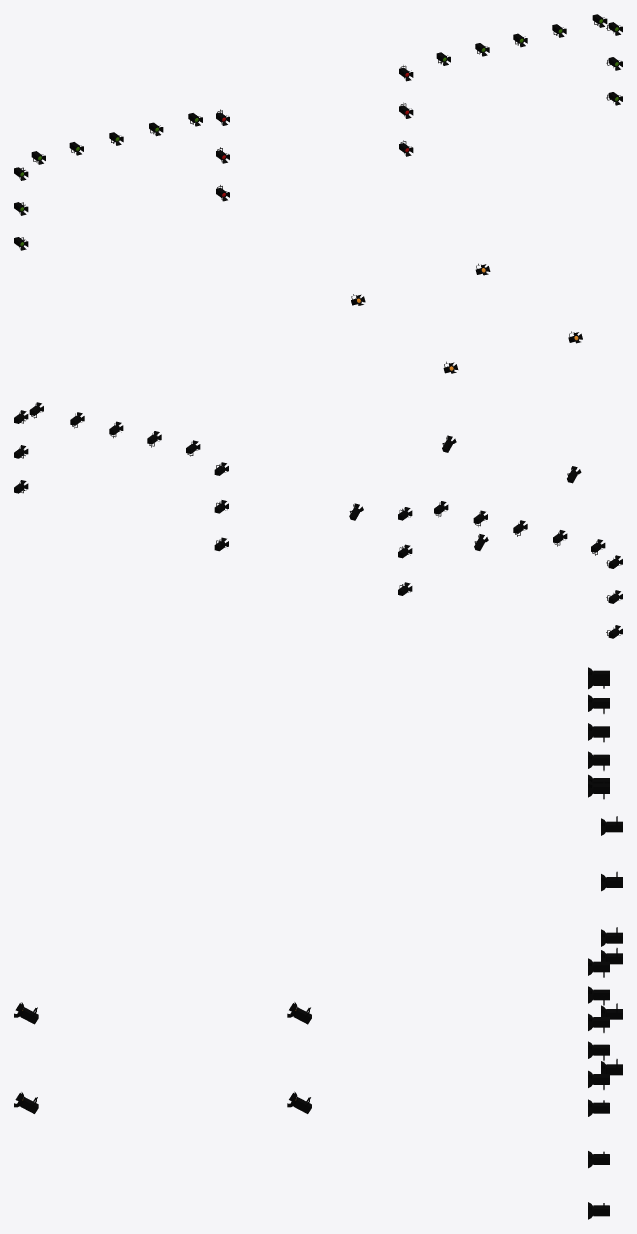
The model's file is BigLights.fbx.
The picture shows the model from 3 angles, top to bottom: view 1: azimuth 30°, elevation 25°; view 2: azimuth 150°, elevation 25°; view 3: azimuth 270°, elevation 25°; orthographic projection. The views are drawn at different scales.
Parts seen in each view (by area): view 1: big_Lights; view 2: big_Lights; view 3: big_Lights.
Part boxes in pixels (x1=…): big_Lights: x1=14, y1=14, x2=622, y2=373; big_Lights: x1=14, y1=402, x2=622, y2=638; big_Lights: x1=14, y1=667, x2=622, y2=1219.
Bounding box in the file's own units: 897 × 190 × 532.
